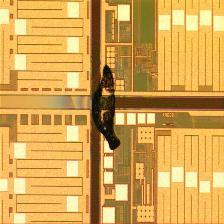PARTICLE: (87, 63, 123, 155)
